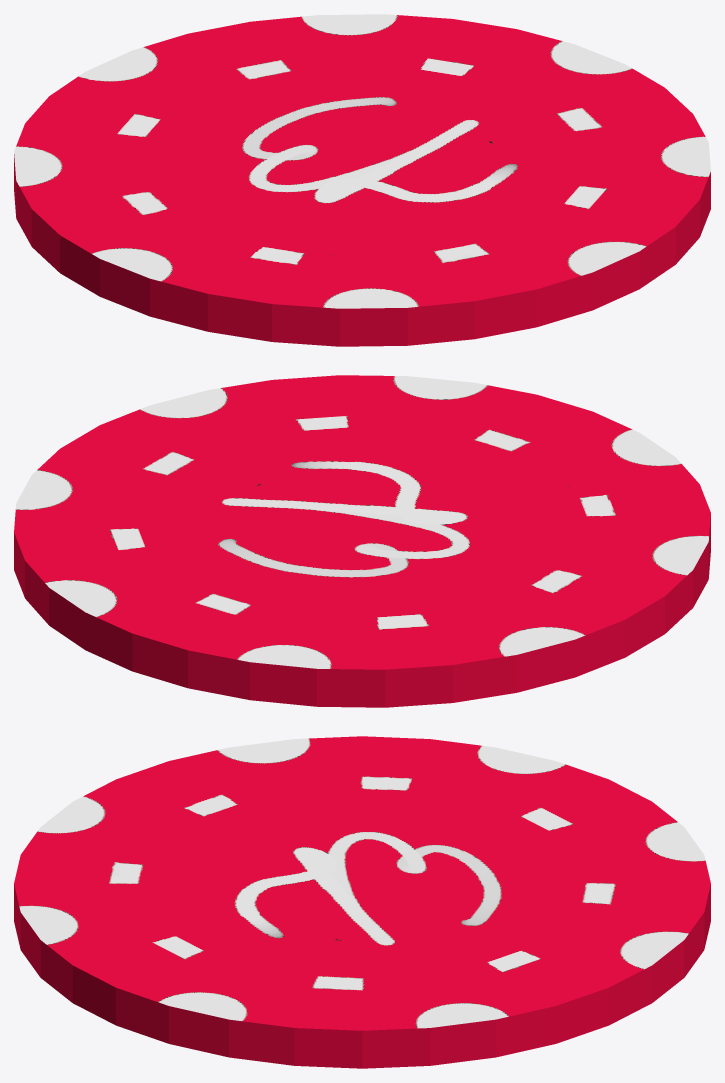
File: ChipModel.fbx
The picture shows the model from 3 angles, top to bottom: view 1: azimuth 30°, elevation 25°; view 2: azimuth 150°, elevation 25°; view 3: azimuth 270°, elevation 25°; orthographic projection.
Visible parts, largest first — view 1: Cylinder; view 2: Cylinder; view 3: Cylinder.
Part boxes in pixels (left/top/right/bottom): Cylinder: left=14, top=14, right=710, bottom=346; Cylinder: left=14, top=375, right=710, bottom=707; Cylinder: left=14, top=736, right=710, bottom=1068.
Size of the model in its own units: 100 by 6.02 by 100.
